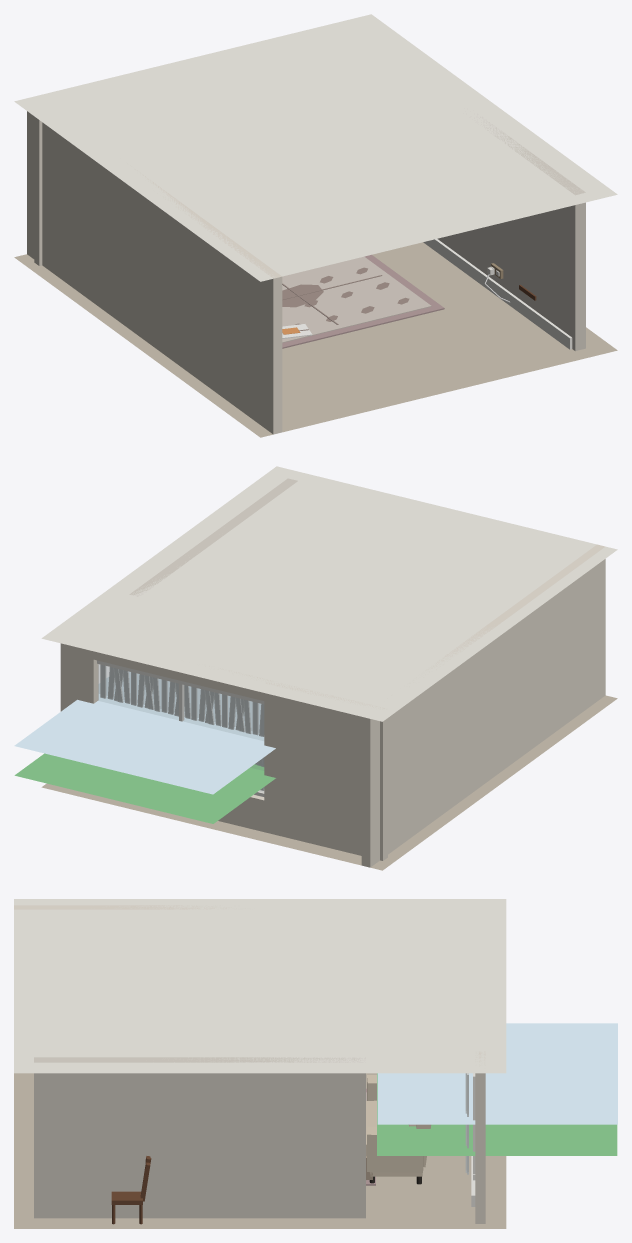
Rendered from living_room_kimi.glb.
The picture shows the model from 3 angles, top to bottom: view 1: azimuth 30°, elevation 25°; view 2: azimuth 150°, elevation 25°; view 3: azimuth 270°, elevation 25°; orthographic projection. The views are drawn at different scales.
Parts seen in each view (by area): view 1: ceiling, left wall, floor, right foreground wall, rug field slab, right skirting, rug border slab, back wall left of window, rug central medallion; view 2: ceiling, left wall, outside sky, back wall left of window, outside garden, window glass, floor, back wall right of window, back wall above window, right foreground wall, back wall below window, sheer curtain panel (+1 smaller); view 3: ceiling, right foreground wall, outside sky, floor, outside garden, back wall right of window, sofa right arm, left wall.
Part boxes in pixels (left/top/right/bottom): ceiling: left=14, top=14, right=617, bottom=281; left wall: left=27, top=111, right=282, bottom=434; floor: left=14, top=242, right=617, bottom=437; right foreground wall: left=437, top=114, right=585, bottom=350; rug field slab: left=282, top=256, right=431, bottom=342; right skirting: left=423, top=239, right=572, bottom=349; rug border slab: left=282, top=254, right=444, bottom=348; back wall left of window: left=34, top=116, right=42, bottom=265; rug central medallion: left=282, top=284, right=323, bottom=307; ceiling: left=41, top=466, right=617, bottom=721; left wall: left=361, top=544, right=605, bottom=867; outside sky: left=14, top=671, right=275, bottom=794; back wall left of window: left=264, top=681, right=387, bottom=860; outside garden: left=14, top=753, right=275, bottom=823; window glass: left=98, top=664, right=263, bottom=791; floor: left=41, top=695, right=617, bottom=870; back wall right of window: left=60, top=643, right=98, bottom=711; back wall above window: left=84, top=649, right=272, bottom=702; right foreground wall: left=129, top=478, right=297, bottom=596; back wall below window: left=218, top=794, right=269, bottom=833; sheer curtain panel: left=99, top=664, right=260, bottom=730; ceiling: left=14, top=899, right=506, bottom=1073; right foreground wall: left=34, top=1057, right=365, bottom=1218; outside sky: left=377, top=1023, right=617, bottom=1124; floor: left=14, top=1073, right=506, bottom=1228; outside garden: left=377, top=1073, right=617, bottom=1155; back wall right of window: left=475, top=1051, right=485, bottom=1223; sofa right arm: left=367, top=1126, right=423, bottom=1172; left wall: left=14, top=905, right=245, bottom=909.
Size of the model in its own units: 7.2 by 3 by 10.55.
